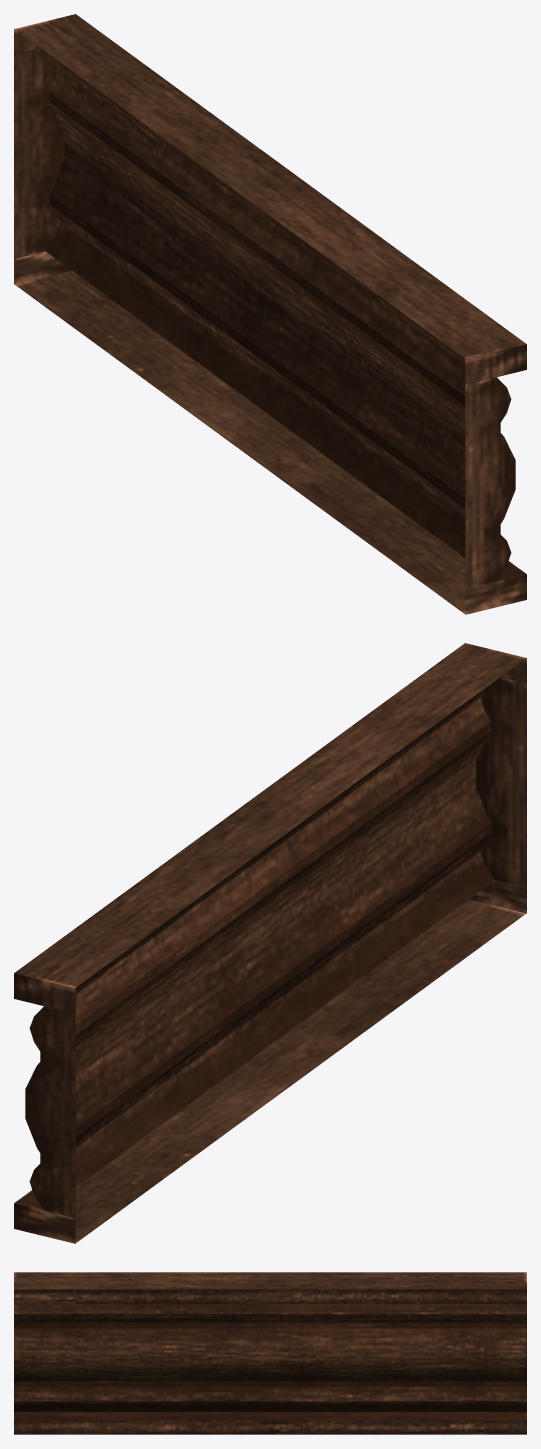
The model's file is Trim_Wood_top_2m.fbx.
The picture shows the model from 3 angles, top to bottom: view 1: azimuth 30°, elevation 25°; view 2: azimuth 150°, elevation 25°; view 3: azimuth 270°, elevation 25°; orthographic projection. The views are drawn at different scales.
Visible parts, largest first — view 1: Trim_Wood_top_2m; view 2: Trim_Wood_top_2m; view 3: Trim_Wood_top_2m.
Boxes of the visible parts, box(x1,y1,x2,y2) form: Trim_Wood_top_2m: box(14, 14, 526, 614); Trim_Wood_top_2m: box(14, 643, 526, 1243); Trim_Wood_top_2m: box(14, 1272, 526, 1434).
Size of the model in its own units: 15.81 by 62.5 by 200.
Materials: 1 (1 with a texture image).
